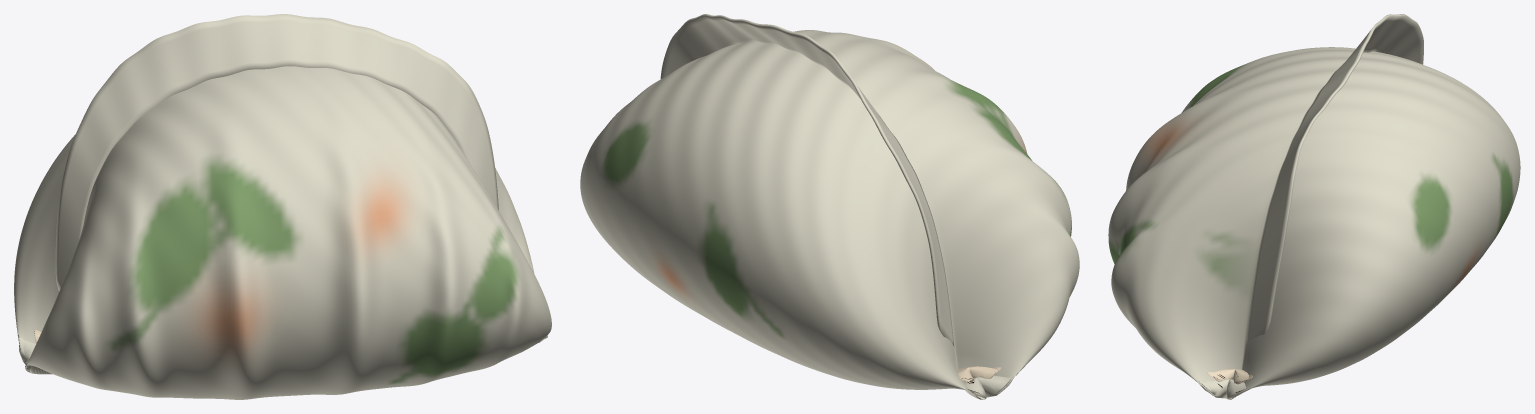
File: guangzhou-dish-original.glb
3 renders of one model, left to right at view 1: azimuth 30°, elevation 25°; view 2: azimuth 150°, elevation 25°; view 3: azimuth 270°, elevation 25°, orthographic. The views are drawn at different scales.
Parts seen in each view (by area): view 1: guangzhou-dish; view 2: guangzhou-dish; view 3: guangzhou-dish.
Part boxes in pixels (x1,y1,x2,y2): guangzhou-dish: (14, 14, 551, 399); guangzhou-dish: (580, 14, 1079, 399); guangzhou-dish: (1108, 14, 1520, 399).
Size of the model in its own units: 0.0628 by 0.0421 by 0.0529.
Materials: 3 (3 with a texture image).
